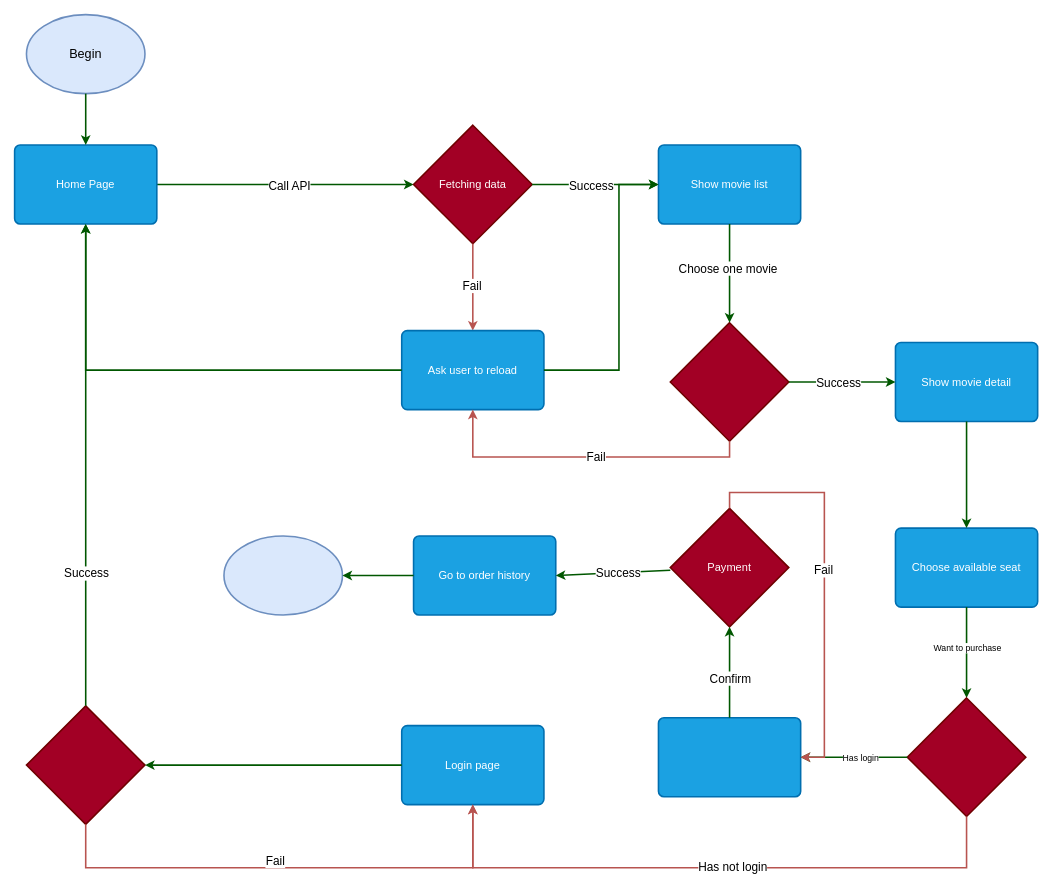
Some shapes in this 1051 by 888 pixel diagram are drawn without their labels. Here are the shapes that lost their labels. From the top down, the box of each, then its label:
(669, 322, 789, 442): Fetching movie's detail data
(223, 535, 343, 615): Finish
(25, 705, 145, 825): Login
(657, 717, 801, 797): Payment Screen
(906, 697, 1026, 817): Check Login
